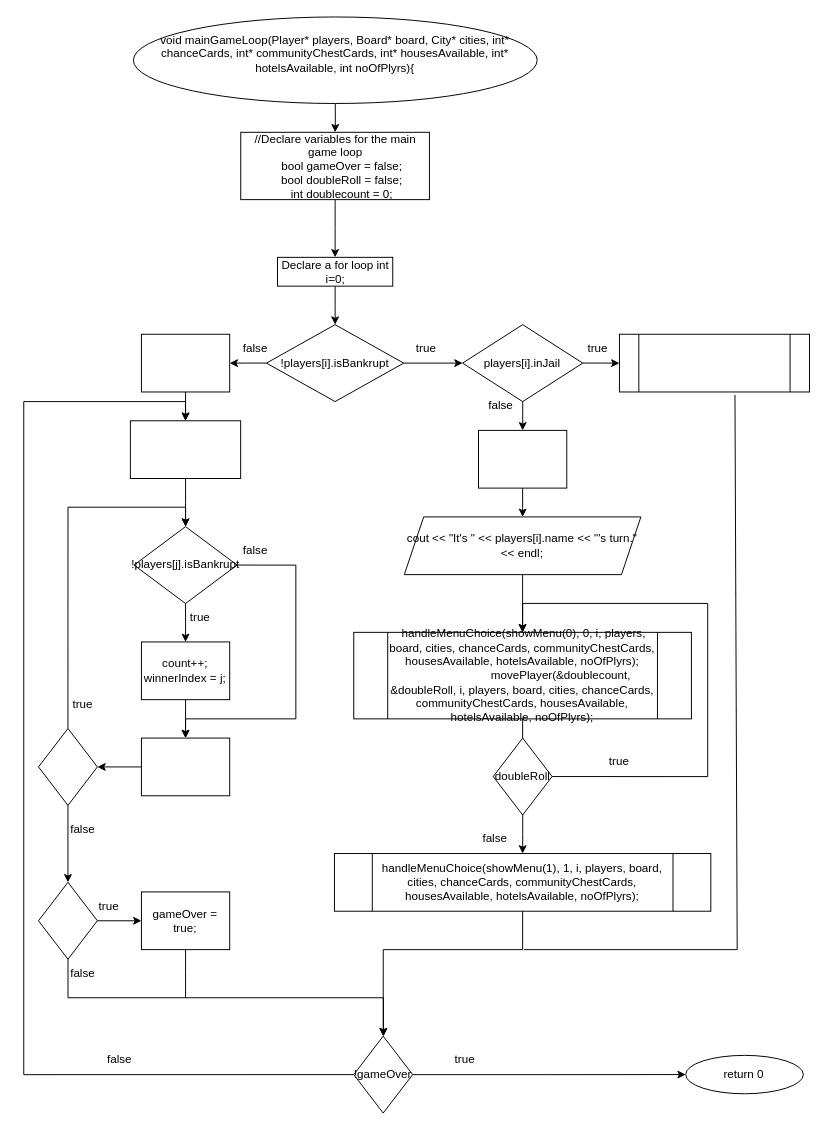
Image size: 826x1130. Some labels were removed from this diagram. The shapes that lost their labels are listed below. From the top down, each one's box as (x1, y1, x2, y2) in pixels, then its label:
(140, 333, 230, 392): int count =0; int winnerIndex;
(618, 333, 809, 392): jailTurn(i, players, board, cities);
(129, 420, 241, 479): Declare for loop int j=0;
(478, 429, 567, 488): doublecount = 0;
(38, 728, 97, 805): j<noOfPlyrs
(140, 737, 230, 796): j++
(38, 881, 97, 959): count == 1
